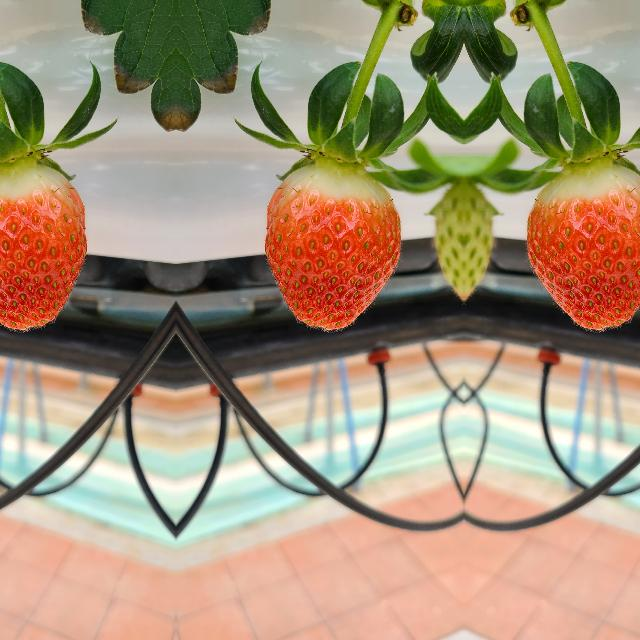Health_100: (261, 158, 403, 334), (523, 158, 640, 333), (0, 158, 89, 333)
